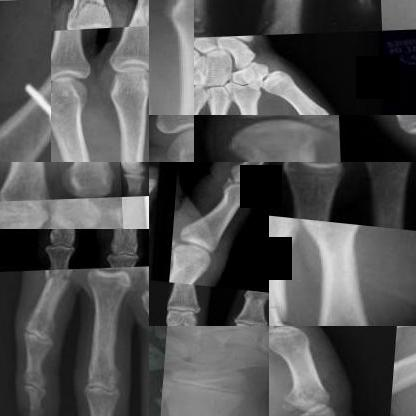fracture: (12, 0, 50, 151), (164, 363, 266, 402), (269, 216, 300, 324), (68, 0, 114, 22), (38, 270, 75, 297), (269, 326, 292, 357), (205, 89, 218, 105)
